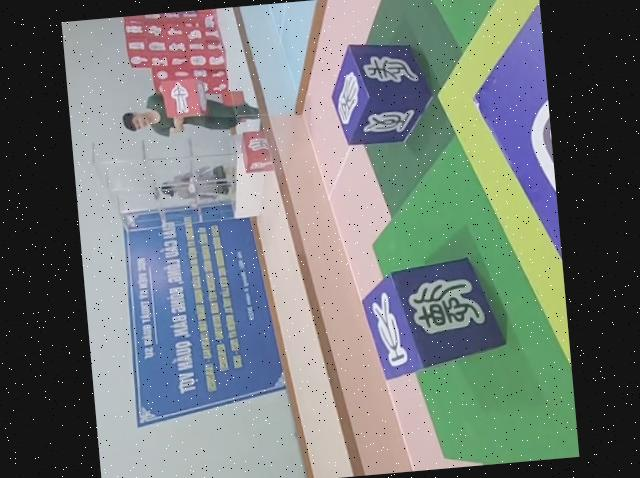R2 Fake Blue: (361, 252, 511, 379), (327, 37, 437, 148)
